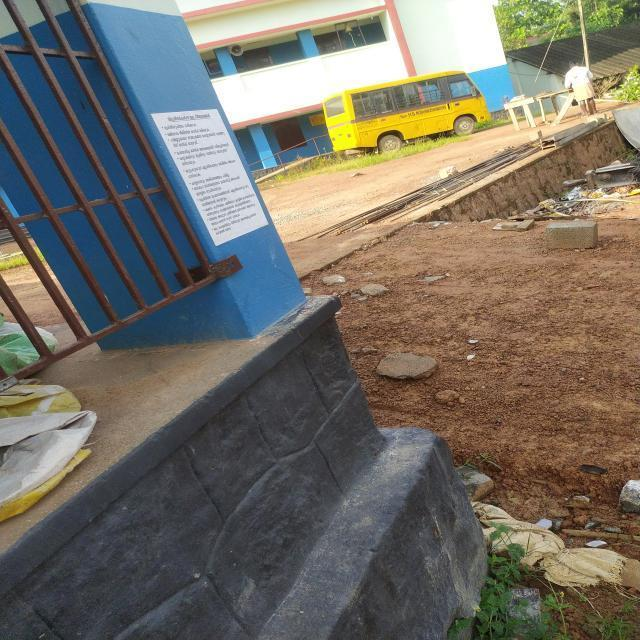bus_back: (317, 63, 496, 160)
